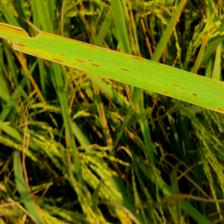0 BrownSpot: (75, 53, 103, 68), (48, 53, 66, 64), (12, 39, 26, 49), (116, 66, 132, 73), (189, 90, 200, 99), (213, 105, 224, 114), (160, 89, 172, 97), (133, 54, 144, 62)
